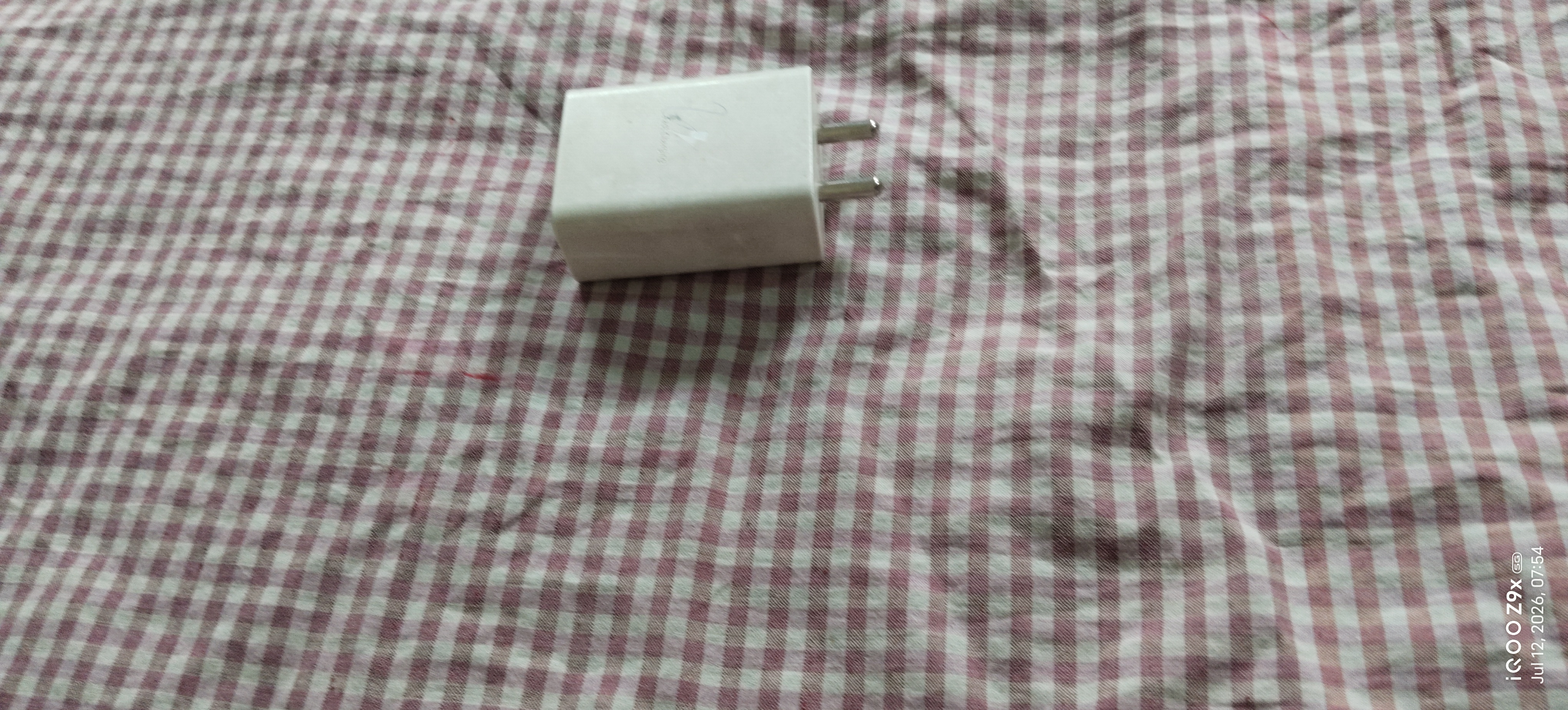charger: (538, 50, 895, 308)
